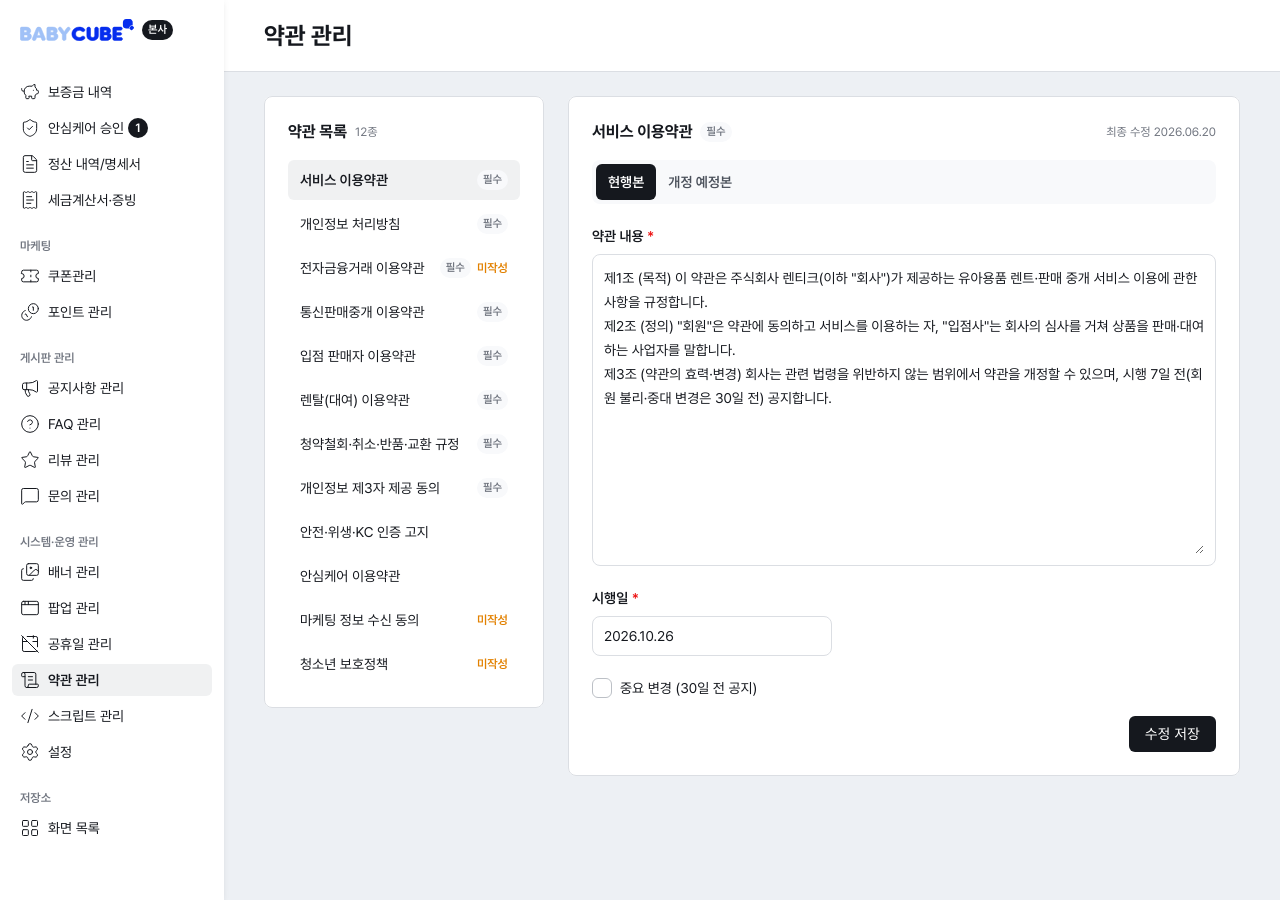
Test: TermsAdminPage › 저장 — 알림만 › 미작성 문서에 쓰고 '등록' — 등록 알림만 뜨고 미작성·버튼 라벨은 그대로다
The image size is (1280, 900).
(page scrolled)
Click the button "전자금융거래 이용약관 필수 미작성": [404, 268] box [288,248,520,288]
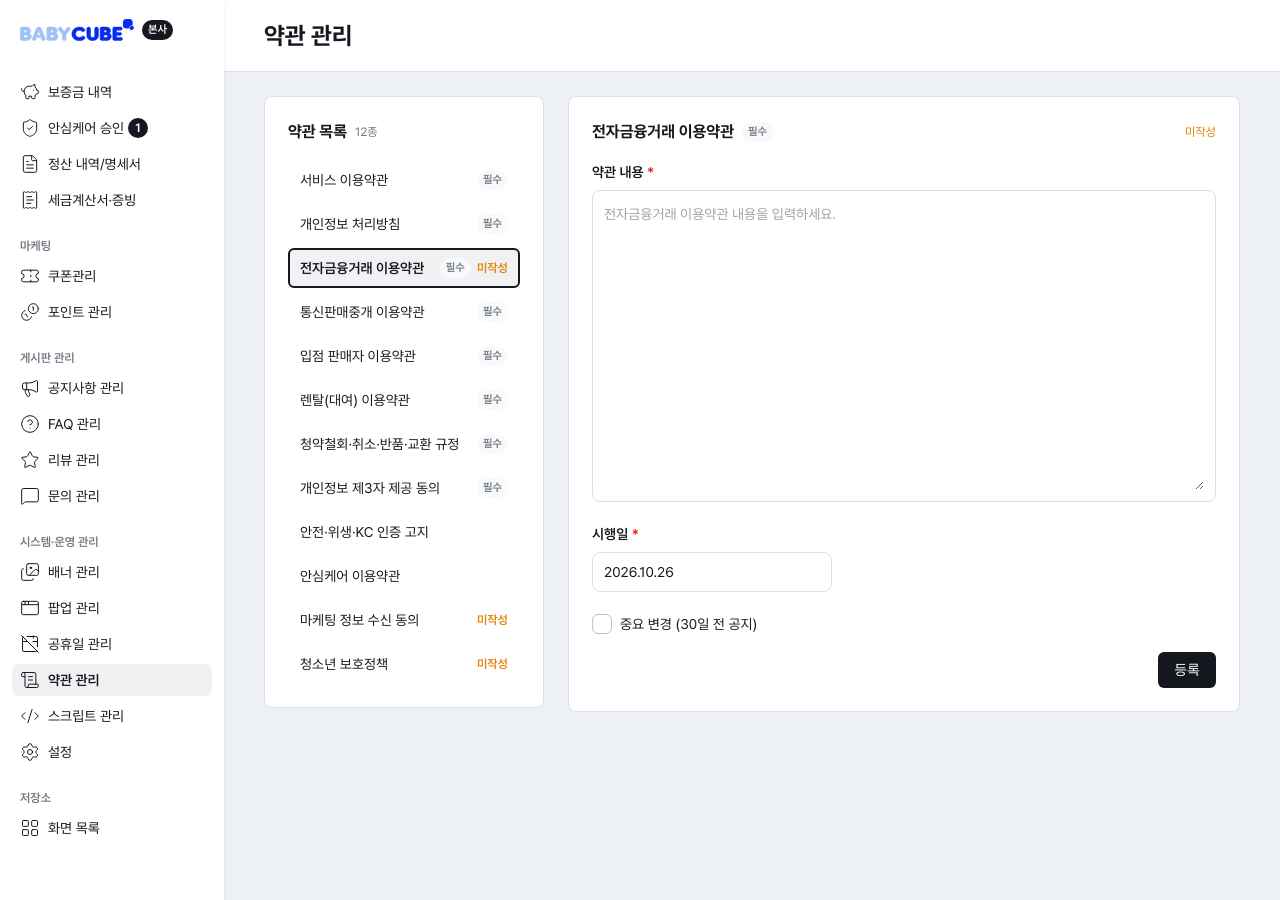
In the text box labelled "약관 내용 *": [904, 346] box [604,202,1204,490], type "제1조 (목적) 전자금융거래의 기본 사항."
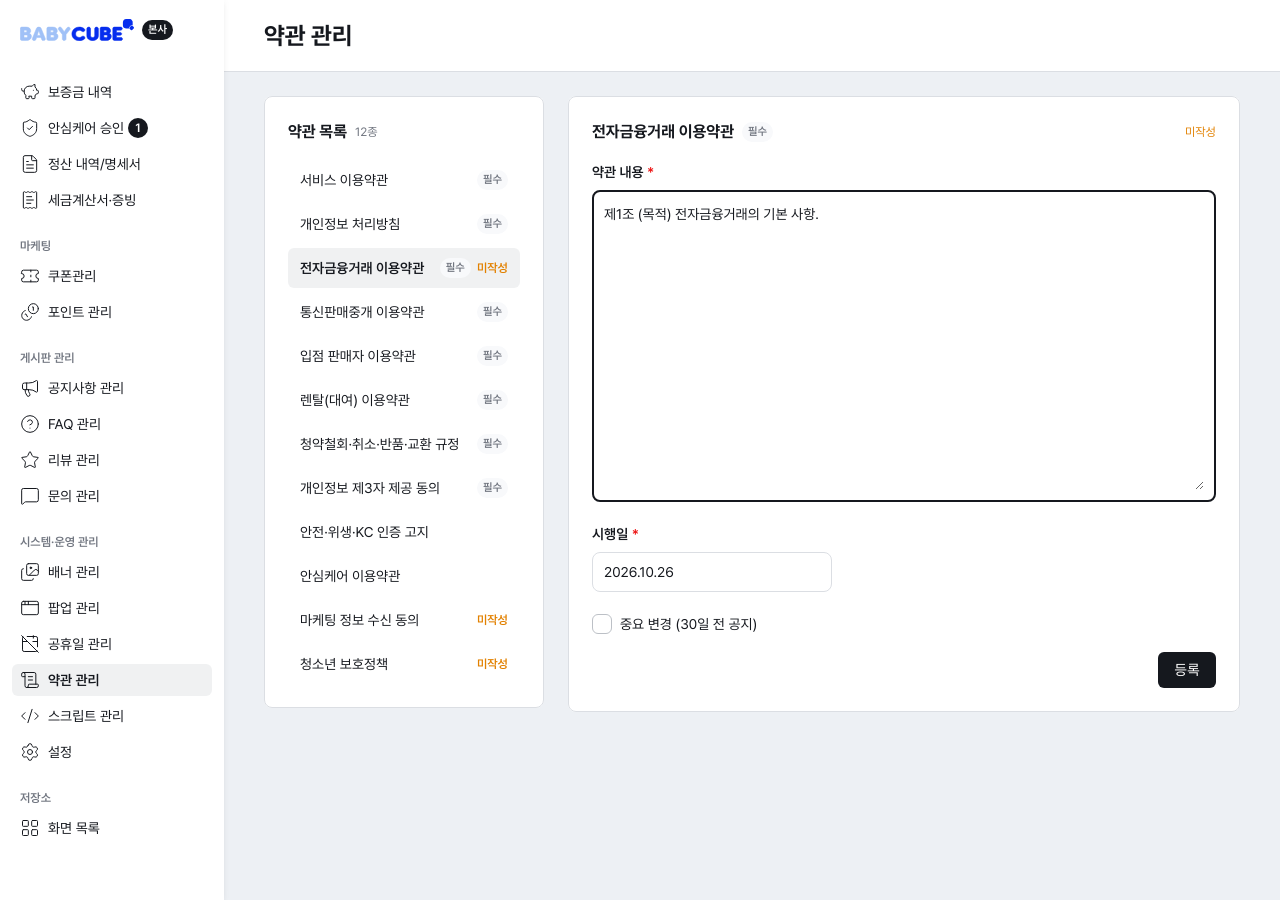
Click the button "등록": [1187, 670] box [1158,652,1216,688]
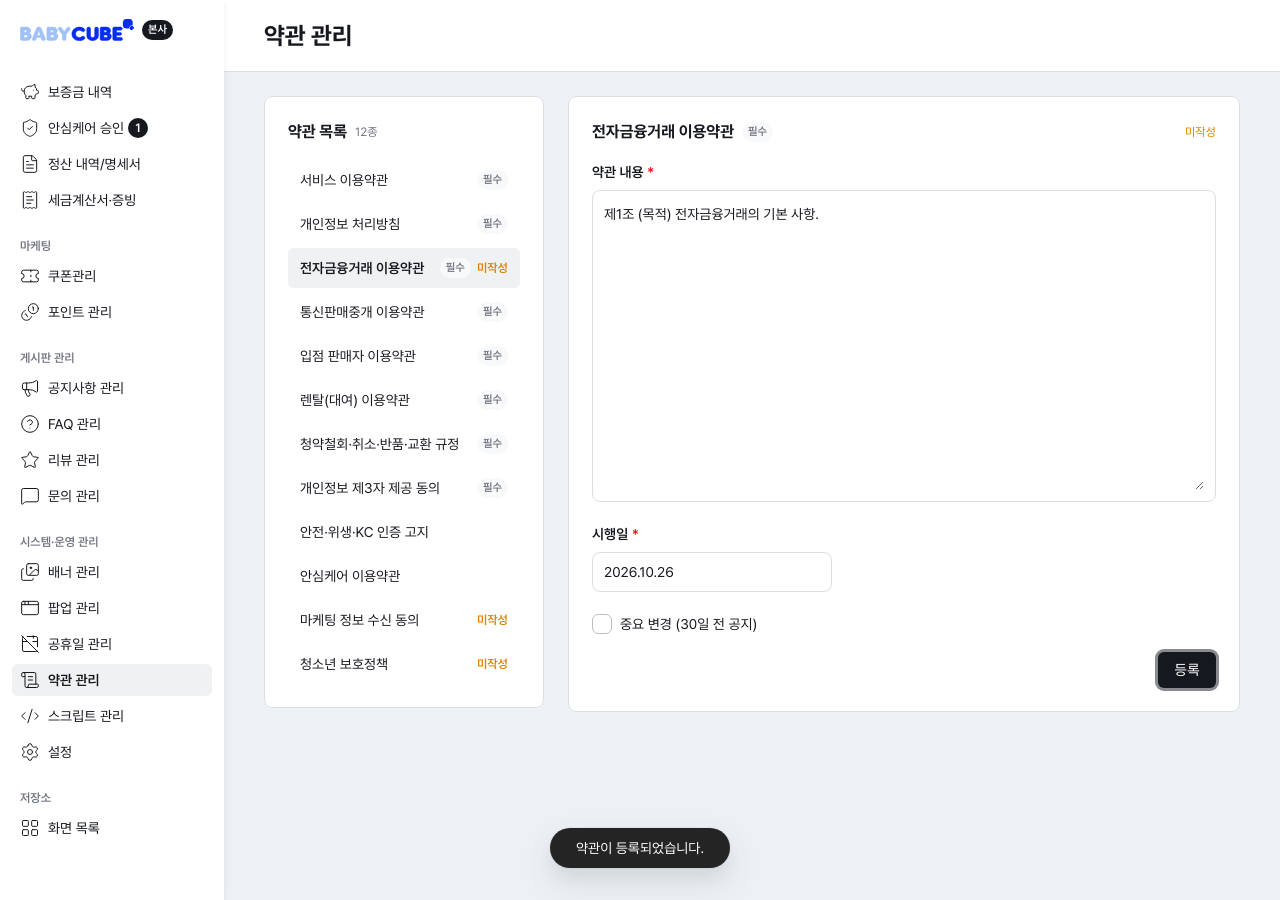
Expected: the 2nd text "미작성" is shown, [477,260,508,276]
Expected: the button "등록" is shown, [1158,652,1216,688]
Expected: the text "약관이 등록되었습니다." is shown, [550,828,730,868]
